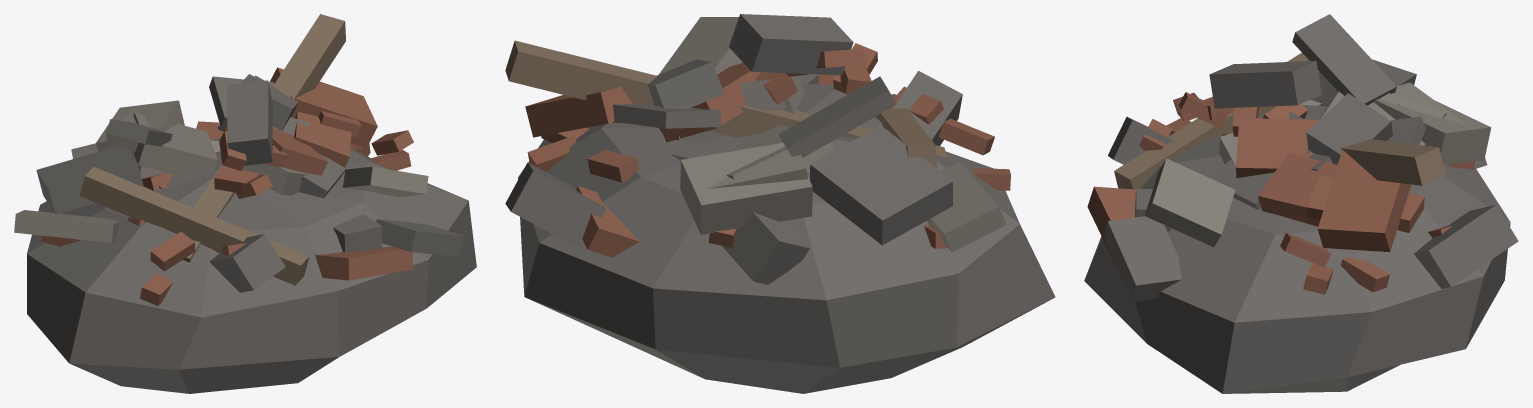
File: rubble.glb
3 renders of one model, left to right at view 1: azimuth 30°, elevation 25°; view 2: azimuth 150°, elevation 25°; view 3: azimuth 270°, elevation 25°, orthographic. The views are drawn at different scales.
Visible parts, largest first — view 1: rstone, brick, plaster, beams; view 2: rstone, plaster, brick, beams; view 3: rstone, brick, plaster, beams.
Part boxes in pixels (x1,y1,x2,y2): rstone: [27, 74, 476, 393]; brick: [41, 67, 413, 305]; plaster: [14, 100, 428, 242]; beams: [79, 14, 345, 285]; rstone: [505, 14, 1055, 393]; plaster: [658, 17, 1006, 251]; brick: [525, 43, 1010, 257]; beams: [505, 40, 947, 168]; rstone: [1084, 14, 1518, 393]; brick: [1087, 92, 1475, 294]; plaster: [1145, 82, 1491, 247]; beams: [1114, 52, 1446, 189].
Size of the model in its own units: 2.8 by 1.75 by 2.31.
